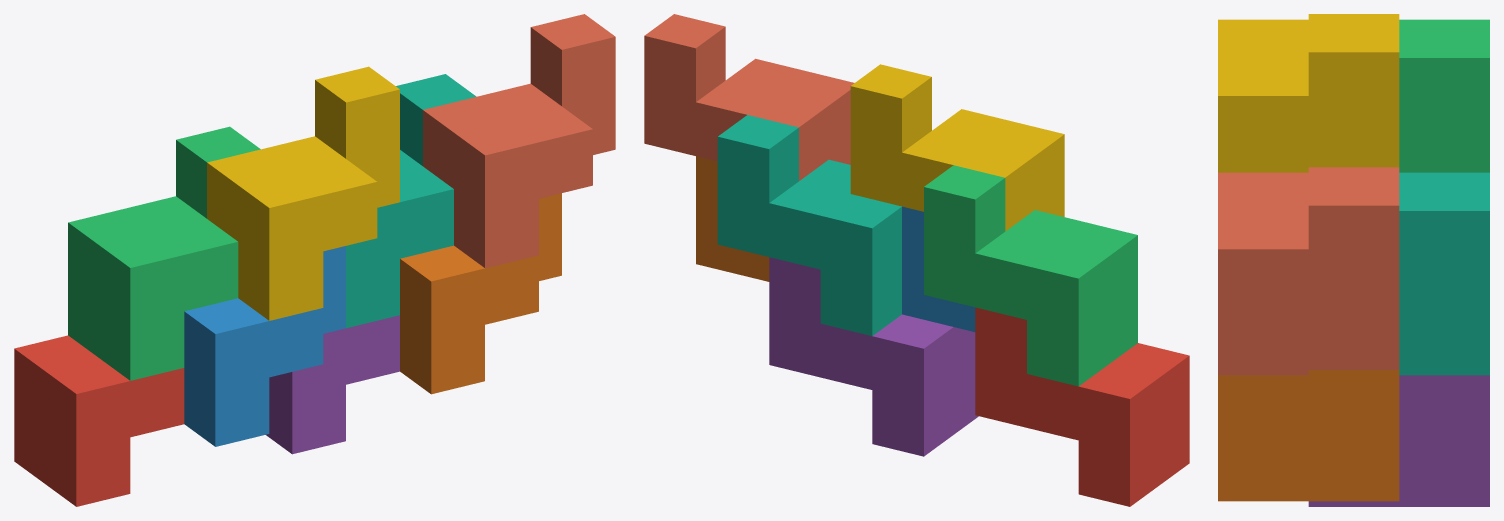
File: tiling.obj
3 renders of one model, left to right at view 1: azimuth 30°, elevation 25°; view 2: azimuth 150°, elevation 25°; view 3: azimuth 270°, elevation 25°, orthographic. The views are drawn at different scales.
Parts seen in each view (by area): view 1: copy_1_domain_4, copy_1_domain_8, copy_1_domain_3, copy_1_domain_1, copy_1_domain_2, copy_1_domain_6, copy_1_domain_7, copy_1_domain_5; view 2: copy_1_domain_3, copy_1_domain_7, copy_1_domain_1, copy_1_domain_5, copy_1_domain_4, copy_1_domain_8, copy_1_domain_6, copy_1_domain_2; view 3: copy_1_domain_8, copy_1_domain_4, copy_1_domain_6, copy_1_domain_7, copy_1_domain_3, copy_1_domain_5.
Part boxes in pixels (bbox=[...]): copy_1_domain_4: bbox=[207, 66, 399, 320]; copy_1_domain_8: bbox=[423, 14, 615, 268]; copy_1_domain_3: bbox=[68, 126, 260, 380]; copy_1_domain_1: bbox=[14, 335, 184, 506]; copy_1_domain_2: bbox=[184, 246, 345, 446]; copy_1_domain_6: bbox=[400, 193, 561, 394]; copy_1_domain_7: bbox=[346, 74, 476, 328]; copy_1_domain_5: bbox=[266, 315, 399, 454]; copy_1_domain_3: bbox=[924, 165, 1137, 386]; copy_1_domain_7: bbox=[717, 115, 901, 335]; copy_1_domain_1: bbox=[975, 307, 1189, 506]; copy_1_domain_5: bbox=[769, 257, 978, 456]; copy_1_domain_4: bbox=[850, 64, 1064, 231]; copy_1_domain_8: bbox=[644, 14, 854, 180]; copy_1_domain_6: bbox=[696, 156, 769, 281]; copy_1_domain_2: bbox=[902, 206, 975, 331]; copy_1_domain_8: bbox=[1218, 167, 1399, 375]; copy_1_domain_4: bbox=[1218, 14, 1399, 172]; copy_1_domain_6: bbox=[1218, 370, 1399, 501]; copy_1_domain_7: bbox=[1399, 172, 1489, 375]; copy_1_domain_3: bbox=[1399, 19, 1489, 172]; copy_1_domain_5: bbox=[1308, 375, 1489, 506].
Bounding box in the file's own units: 10 × 6 × 3.
